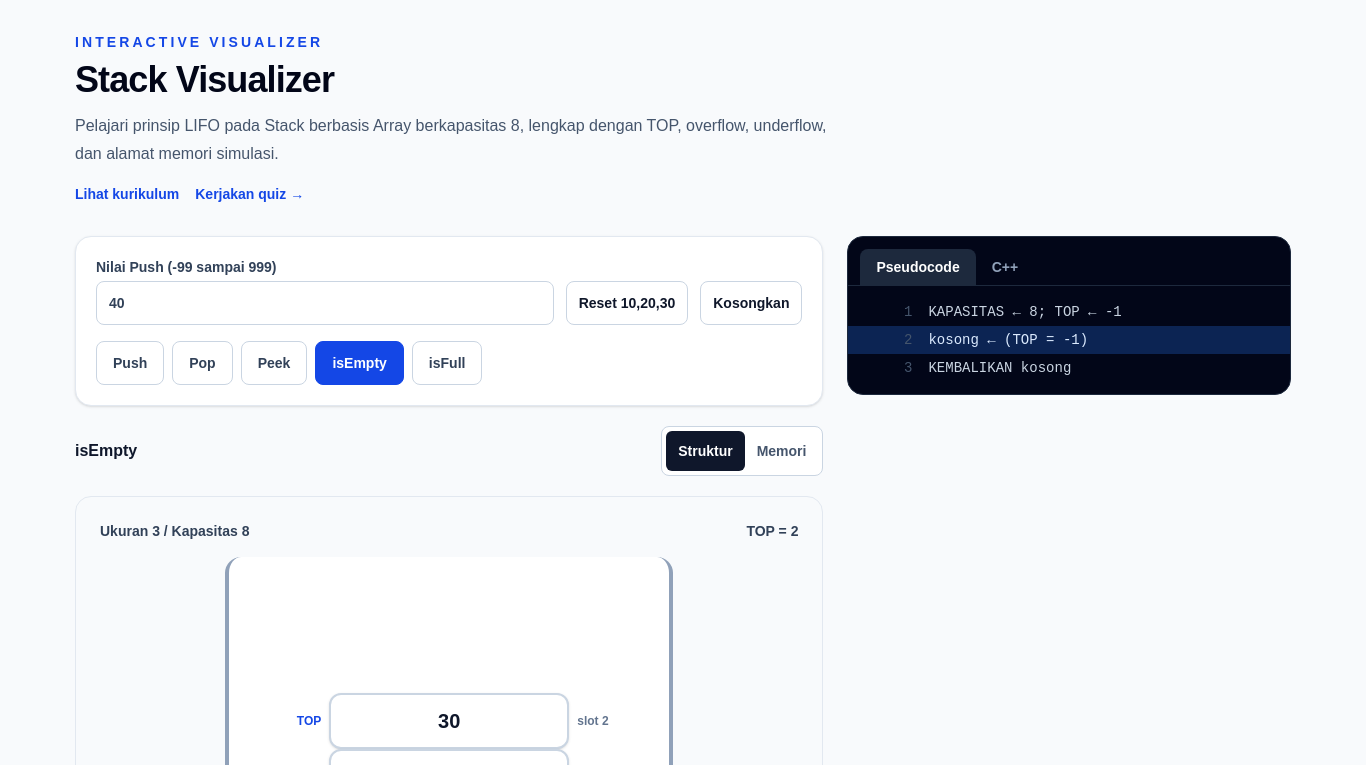
it: StackVisualizer › reports underflow inline after clearing
The width and height of the screenshot is (1366, 765).
Click the button "Kosongkan": (751, 303) 700,281 -> 802,325
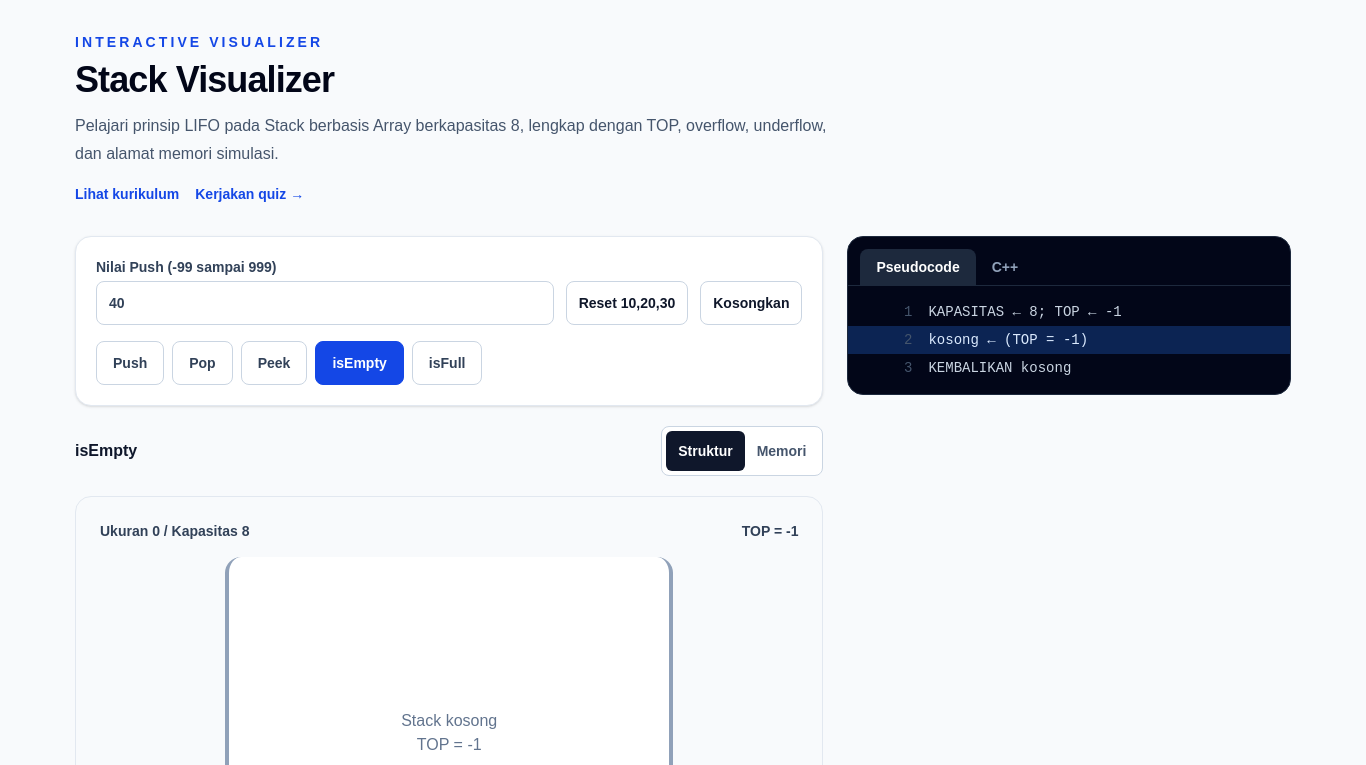
Click the button "Pop": (202, 363) 172,341 -> 233,385
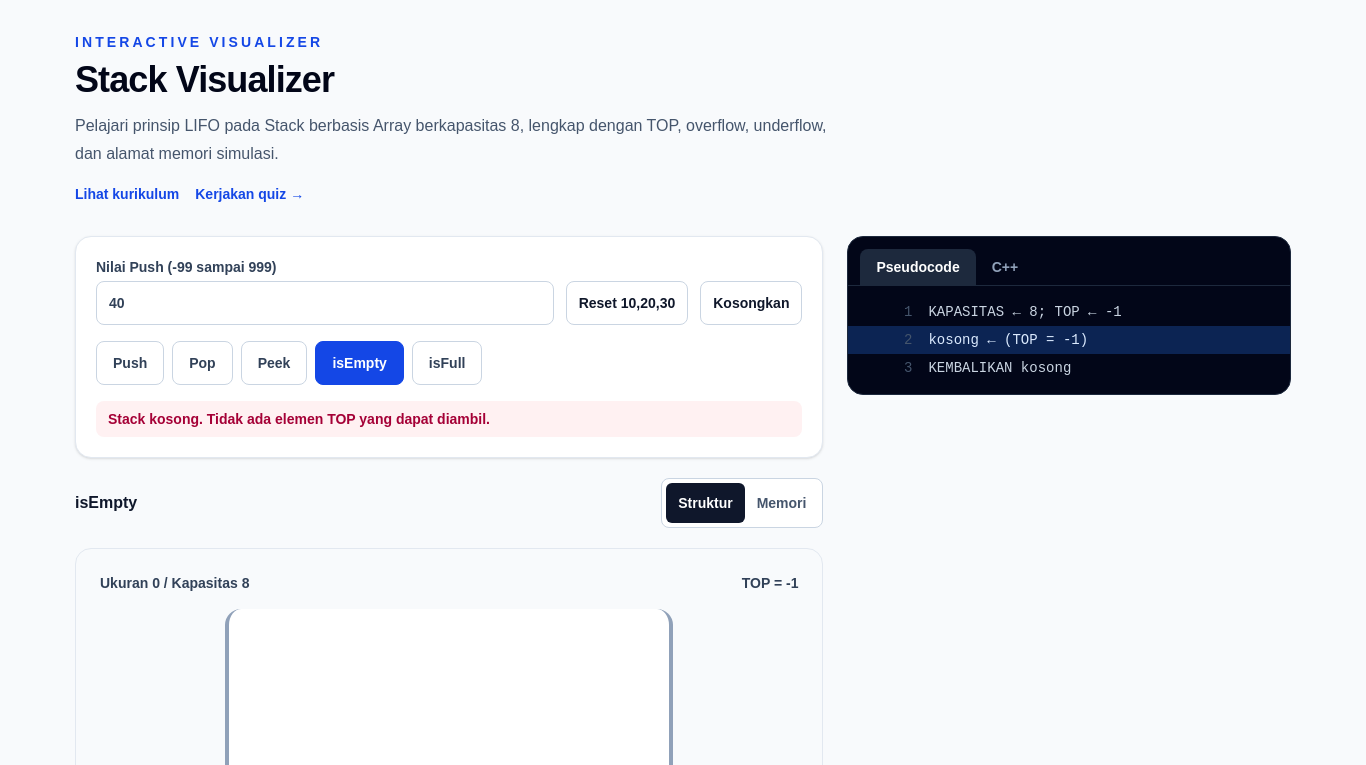
Check: the message reads "Stack kosong. Tidak ada elemen TOP yang dapat diambil.", box 108,411 -> 490,427
